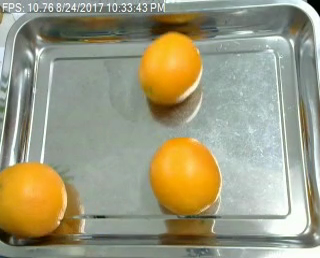Orange: (150, 137, 222, 216), (1, 160, 68, 238), (140, 30, 204, 105)
